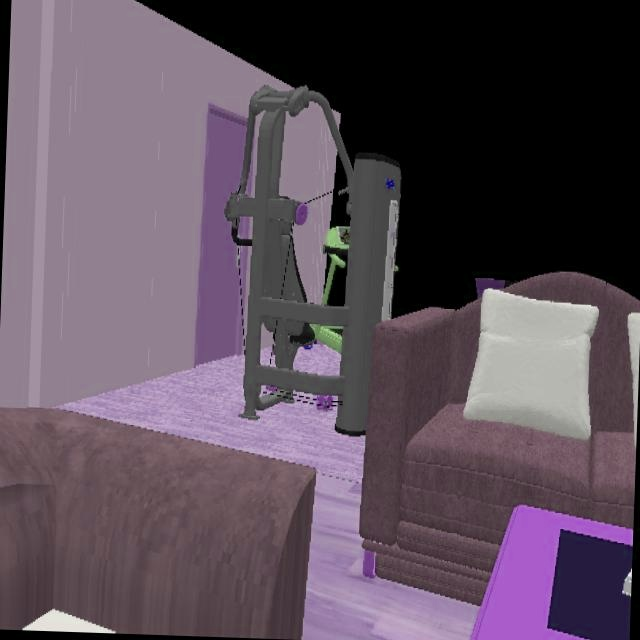pillow: (462, 288, 599, 444), (627, 312, 640, 447)
sofa: (359, 271, 640, 607), (0, 407, 318, 639)
table: (468, 505, 632, 640)
